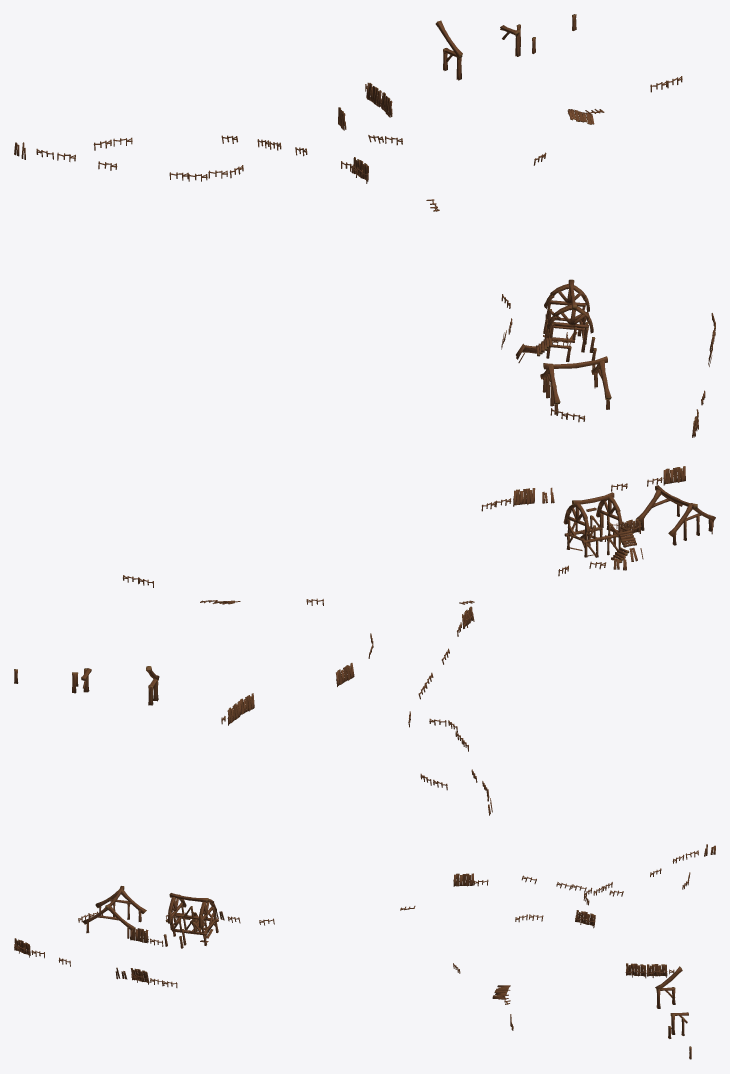
File: WoodBlock4.FBX
3 renders of one model, top to bottom at view 1: azimuth 30°, elevation 25°; view 2: azimuth 150°, elevation 25°; view 3: azimuth 270°, elevation 25°, orthographic. The views are drawn at different scales.
Parts seen in each view (by area): view 1: Object3865; view 2: Object3865; view 3: Object3865.
Part boxes in pixels (box(x1,y1,x2,y2)): Object3865: box(14, 14, 715, 437); Object3865: box(14, 466, 715, 815); Object3865: box(14, 844, 715, 1059).
Bounding box in the file's own units: 296 × 40.92 × 423.
